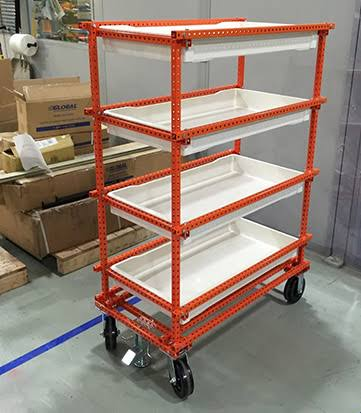Carts: (77, 17, 336, 399)
